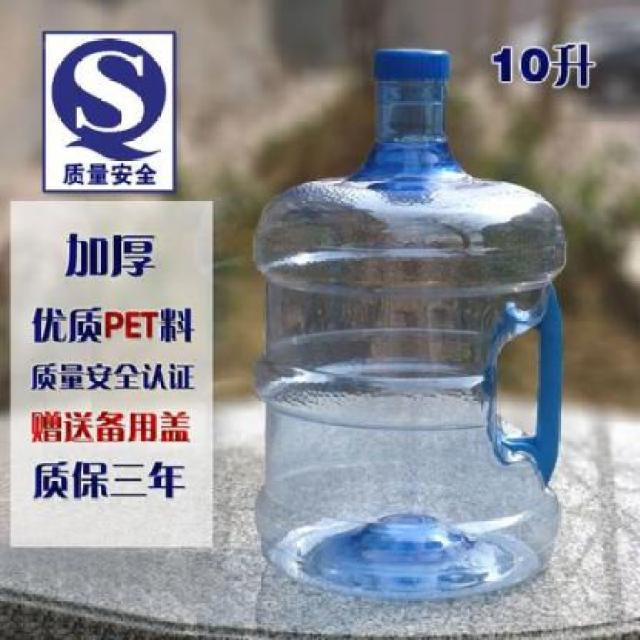coolerbottle: (248, 43, 569, 607)
